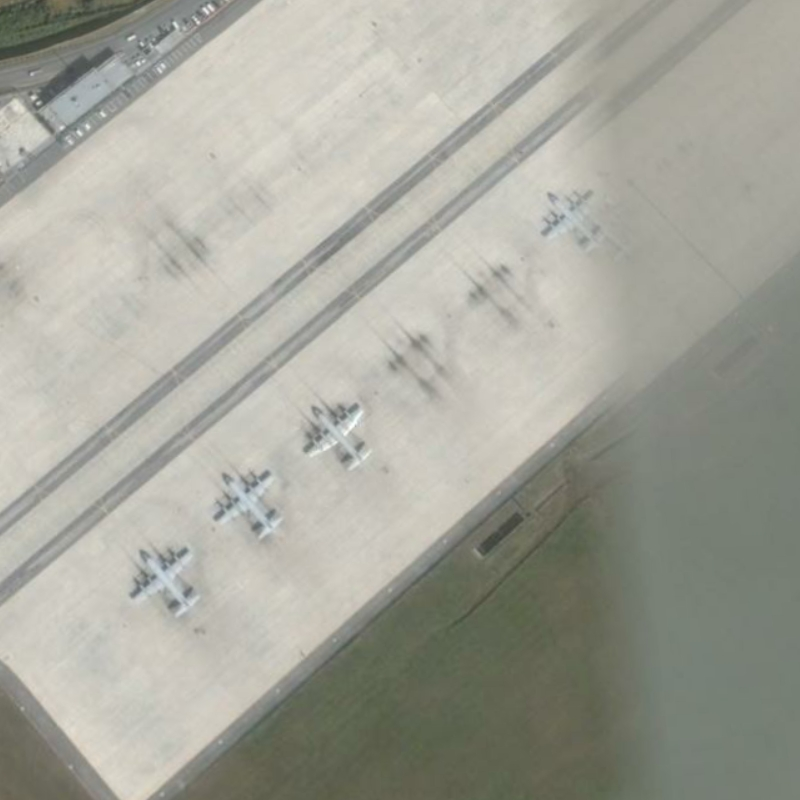A9: (123, 538, 204, 623), (206, 462, 285, 544), (292, 396, 376, 472), (536, 179, 614, 256)
